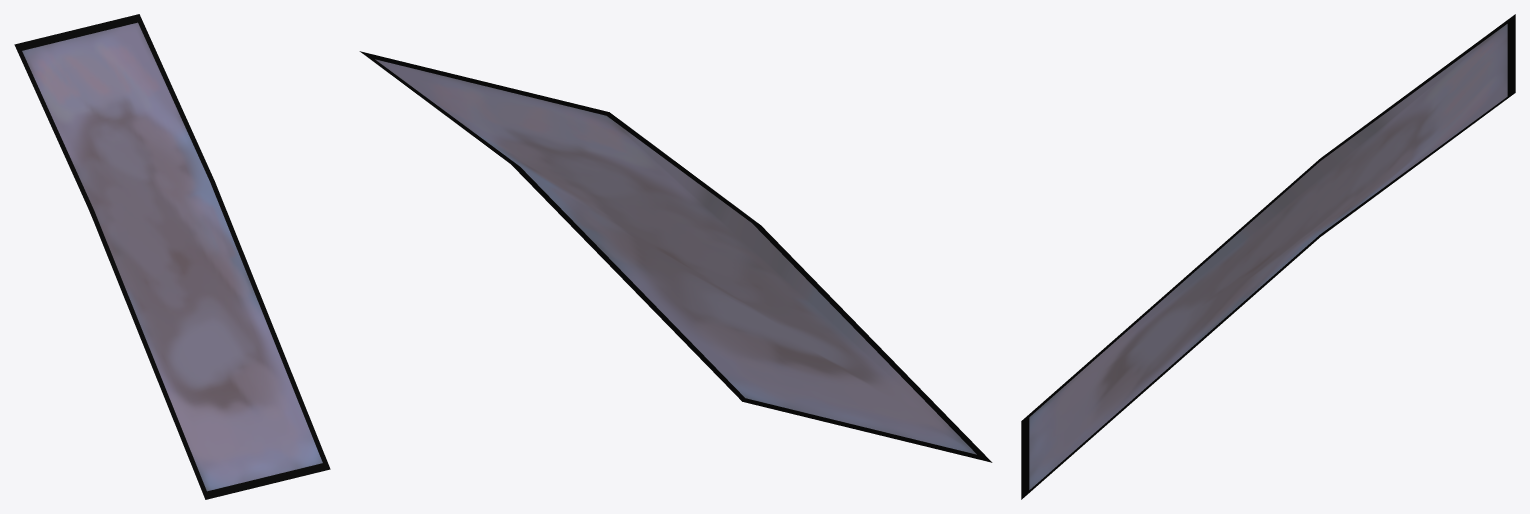
The model's file is creogenic chamber_door.fbx.
3 renders of one model, left to right at view 1: azimuth 30°, elevation 25°; view 2: azimuth 150°, elevation 25°; view 3: azimuth 270°, elevation 25°, orthographic. The views are drawn at different scales.
Visible parts, largest first — view 1: Камера дверь; view 2: Камера дверь; view 3: Камера дверь.
Boxes of the visible parts, left/top/right/bottom form: Камера дверь: left=14, top=14, right=330, bottom=499; Камера дверь: left=359, top=51, right=992, bottom=462; Камера дверь: left=1021, top=14, right=1515, bottom=499.
Bounding box in the file's own units: 65.32 × 157 × 173.
